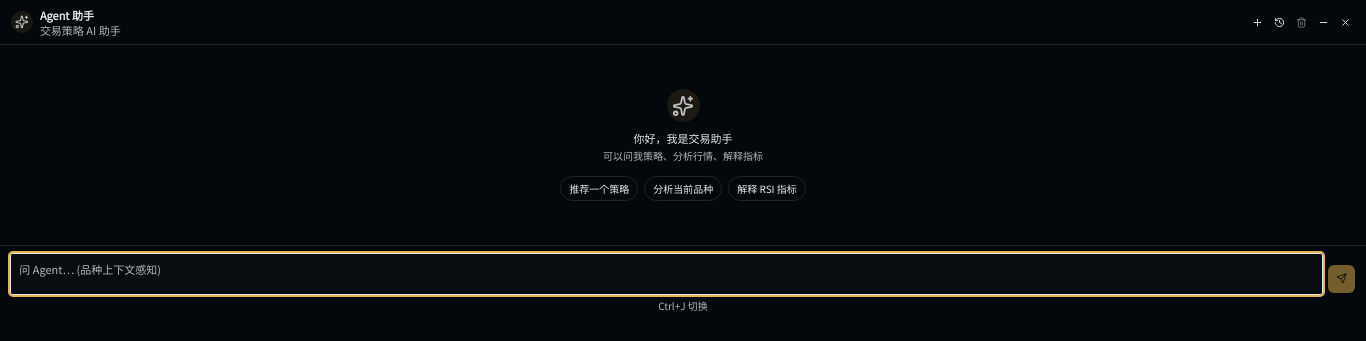
Test case: AgentChatPanel — B0 工具确认门 UI(后端强制,模型不可自签) › 点『批准』→ 以 (sessionId, toolCallId, true) 调端点,ok 后卡片清除
The width and height of the screenshot is (1366, 341).
Type "帮我买一手 BTC" into the text box with placeholder "问 Agent… (品种上下文感知)" at [666, 274], box x1=11 y1=254 x2=1322 y2=294
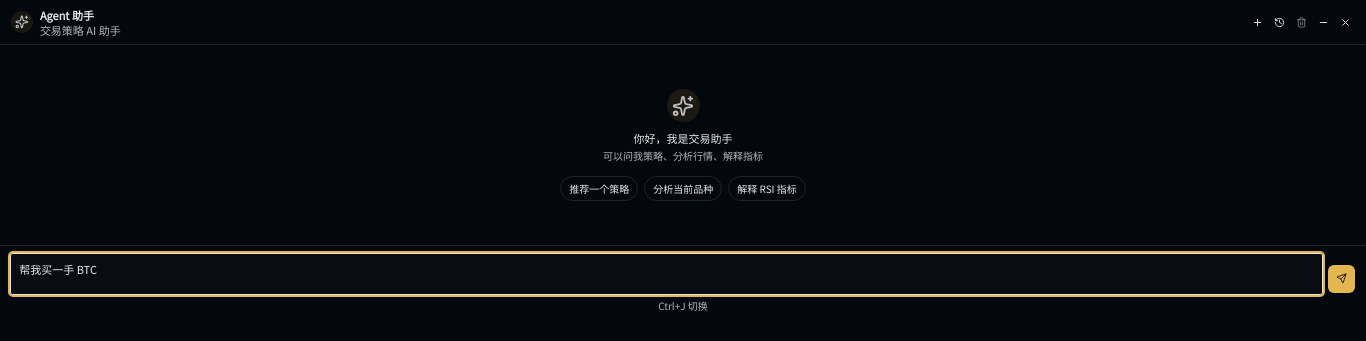
Press Enter in the text box with placeholder "问 Agent… (品种上下文感知)", box x1=11 y1=254 x2=1322 y2=294
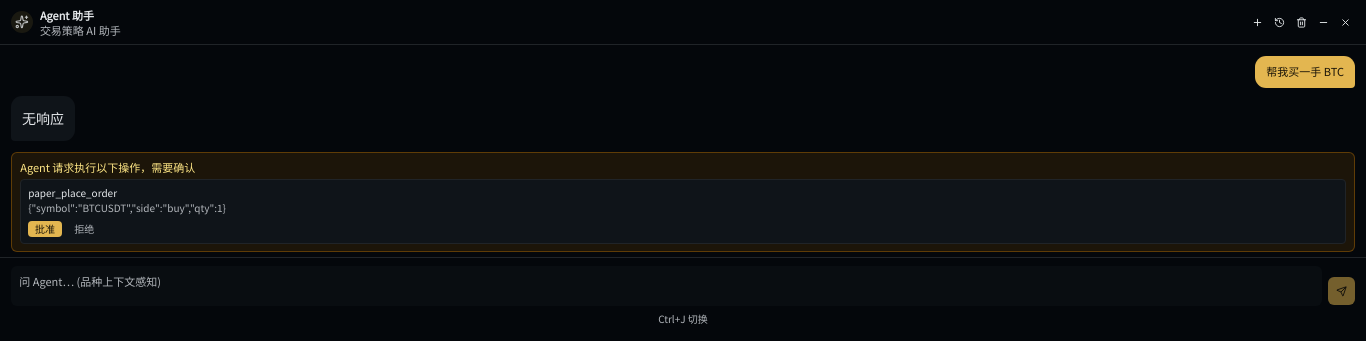
Click the button "批准" at [45, 229], box x1=28 y1=221 x2=62 y2=237
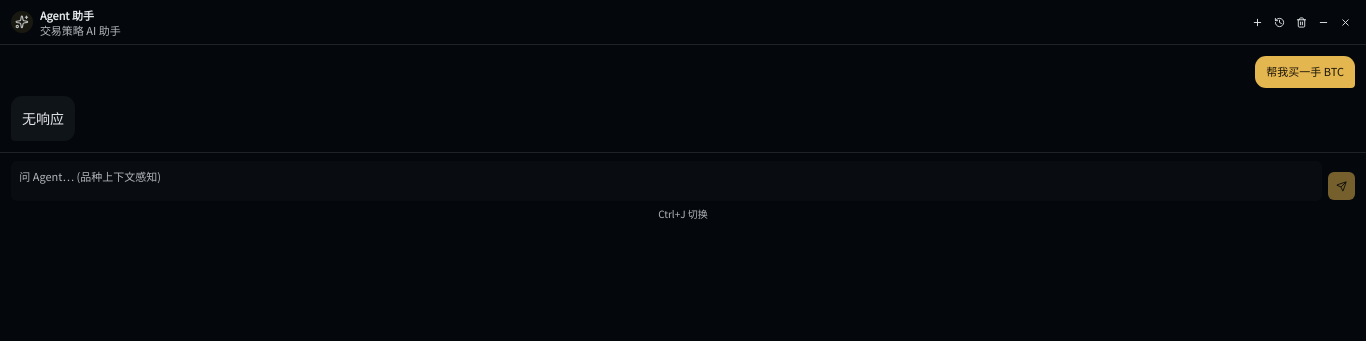
Check: the text "Agent 请求执行以下操作，需要确认" is gone
